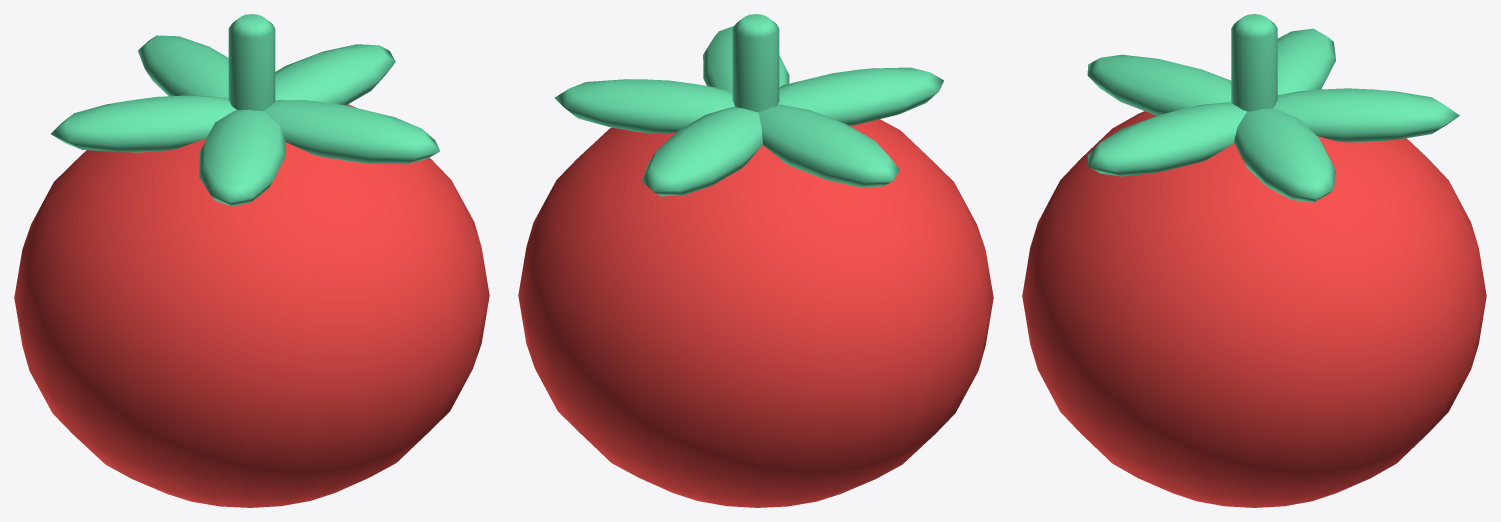
Rendered from tomato.glb.
The picture shows the model from 3 angles, left to right: view 1: azimuth 30°, elevation 25°; view 2: azimuth 150°, elevation 25°; view 3: azimuth 270°, elevation 25°; orthographic projection.
Visible parts, largest first — view 1: tomato; view 2: tomato; view 3: tomato.
Boxes of the visible parts, x1,y1,x2,y2 form: tomato: (14, 14, 489, 507); tomato: (518, 14, 993, 507); tomato: (1022, 14, 1486, 507).
Bounding box in the file's own units: 0.9351 × 1 × 0.9091.
Materials: 1 (1 with a texture image).
